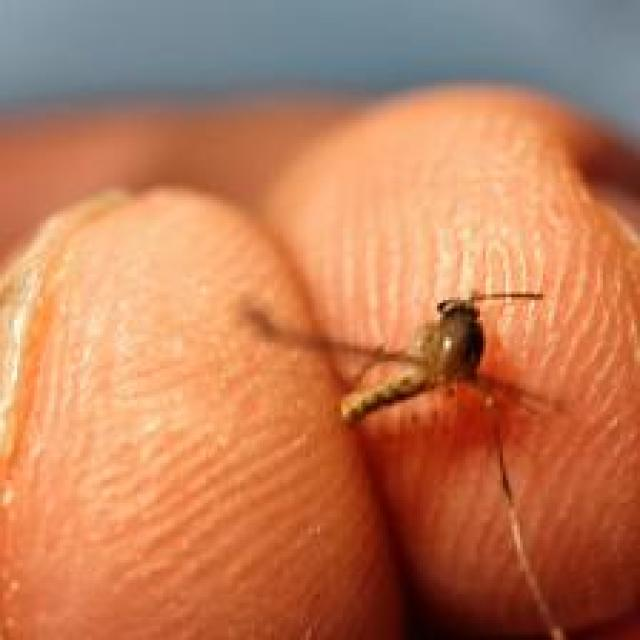Culex: (241, 285, 578, 640)
